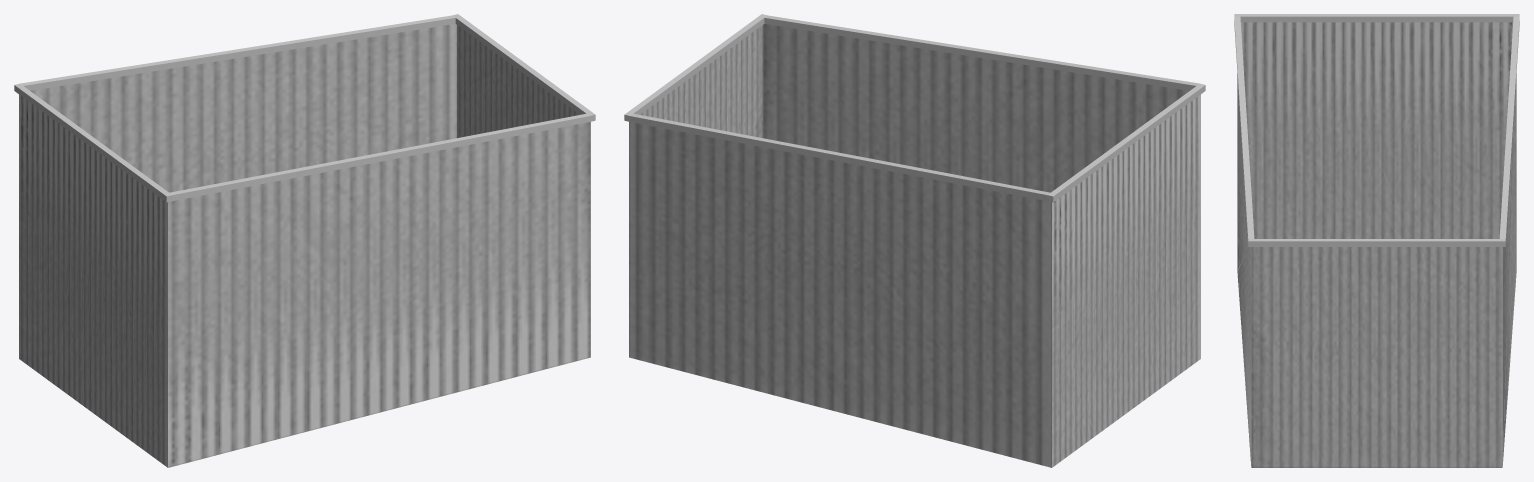
File: ShoppingCart.fbx
3 renders of one model, left to right at view 1: azimuth 30°, elevation 25°; view 2: azimuth 150°, elevation 25°; view 3: azimuth 270°, elevation 25°, orthographic. The views are drawn at different scales.
Parts seen in each view (by area): view 1: Basket, BasketRail; view 2: Basket, BasketRail; view 3: Basket, BasketRail.
Boxes of the visible parts, left/top/right/bottom form: Basket: left=19, top=24, right=590, bottom=467; BasketRail: left=14, top=14, right=595, bottom=202; Basket: left=629, top=24, right=1200, bottom=467; BasketRail: left=624, top=14, right=1205, bottom=202; Basket: left=1237, top=22, right=1516, bottom=467; BasketRail: left=1234, top=14, right=1519, bottom=246.
Bounding box in the file's own units: 152 × 91 × 92.
